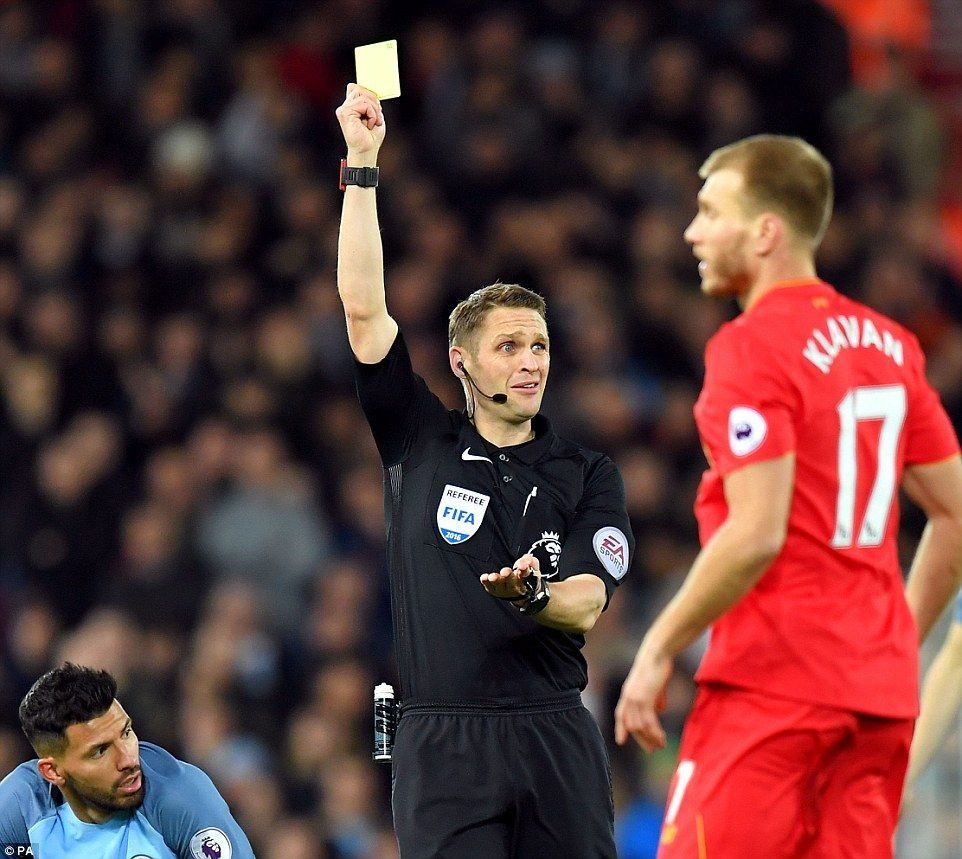yellow_card: (311, 30, 429, 171)
